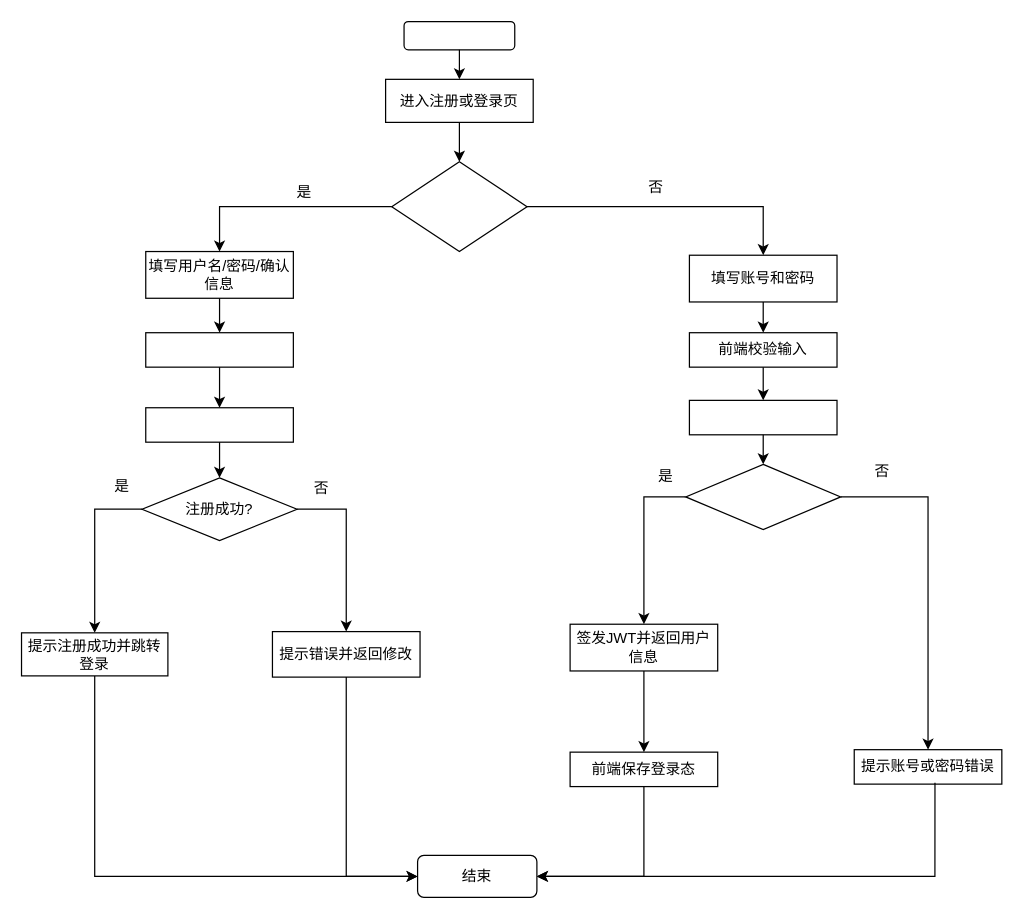
Some shapes in this 1023 by 919 pixel diagram are drawn without their labels. The centre of each missing label's shape, as x and y in pixels:
"前端校验必填与格式" belongs at point 219,349.
"开始" belongs at point 459,35.
"操作类型是注册?" belongs at point 459,206.
"认证成功?" belongs at point 762,496.
"调用注册接口" belongs at point 219,424.
"调用登录接口" belongs at point 762,417.
